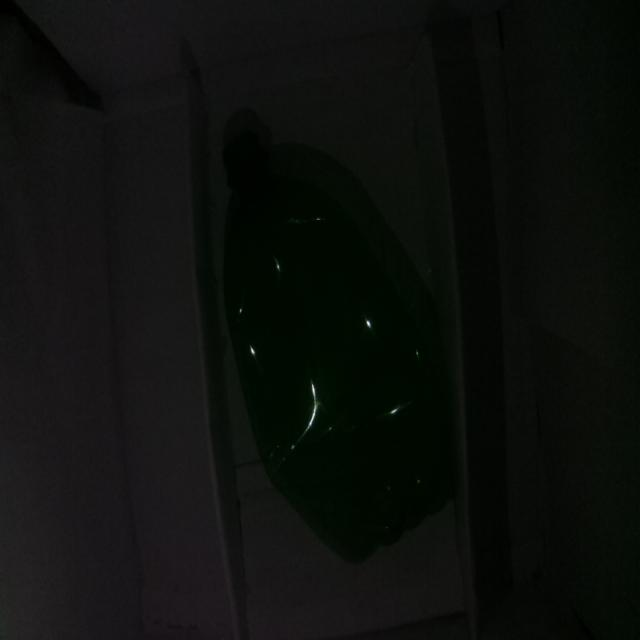Anorganik: (214, 88, 453, 547)
